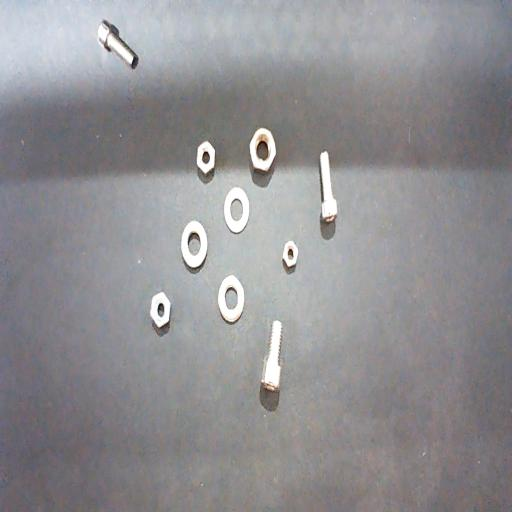nut: (249, 127, 276, 179), (150, 291, 171, 331), (196, 140, 216, 180), (282, 241, 299, 271)
screw: (97, 18, 138, 70), (261, 320, 283, 396), (319, 151, 337, 227)
washer: (181, 220, 207, 270), (218, 275, 244, 324), (224, 186, 250, 234)
